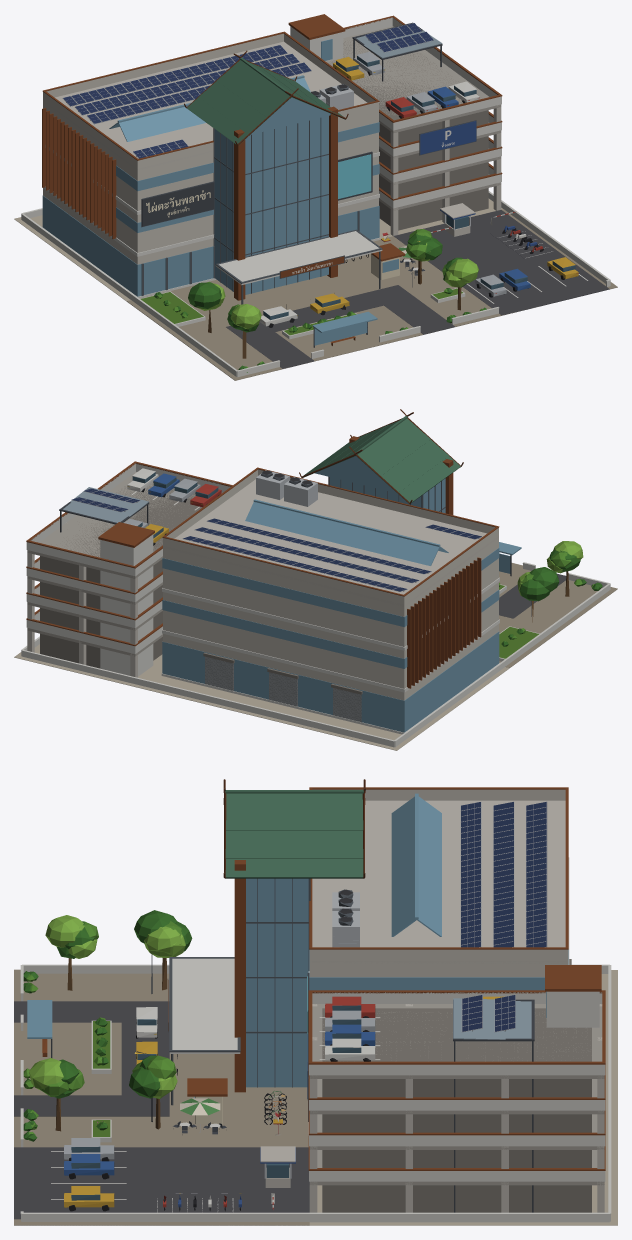
The model's file is store.glb.
The picture shows the model from 3 angles, top to bottom: view 1: azimuth 30°, elevation 25°; view 2: azimuth 150°, elevation 25°; view 3: azimuth 270°, elevation 25°; orthographic projection. The views are drawn at different scales.
Visible parts, largest first — view 1: body, windows; view 2: body, windows; view 3: body, windows.
Part boxes in pixels (left/top/right/bottom): body: left=14, top=14, right=617, bottom=380; windows: left=146, top=56, right=578, bottom=320; body: left=14, top=409, right=617, bottom=750; windows: left=127, top=472, right=218, bottom=538; body: left=14, top=779, right=617, bottom=1225; windows: left=71, top=976, right=361, bottom=1200.
Size of the model in its own units: 47.9 by 24.39 by 47.9.
